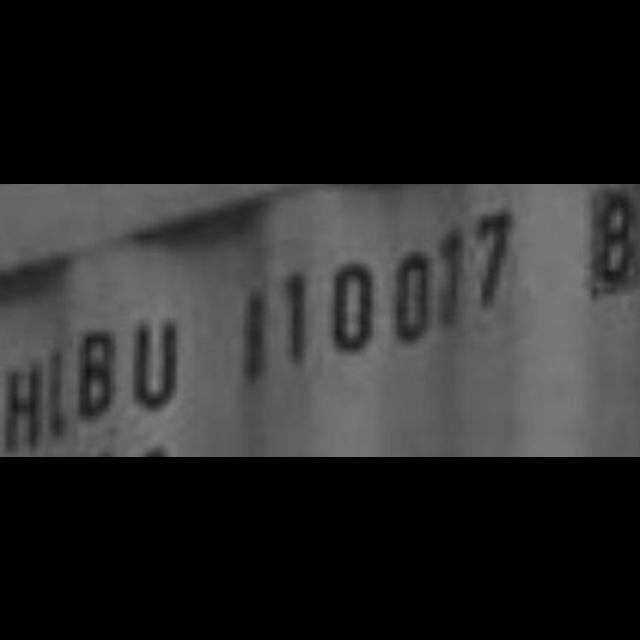0: (324, 246, 380, 360), (386, 238, 438, 348)
1: (272, 259, 321, 375)
7: (469, 198, 519, 316), (435, 218, 473, 326)
8: (586, 183, 640, 289), (233, 281, 277, 385)
b: (72, 321, 122, 435)
h: (0, 354, 46, 456)
i: (42, 339, 74, 451)
u: (126, 304, 188, 422)
